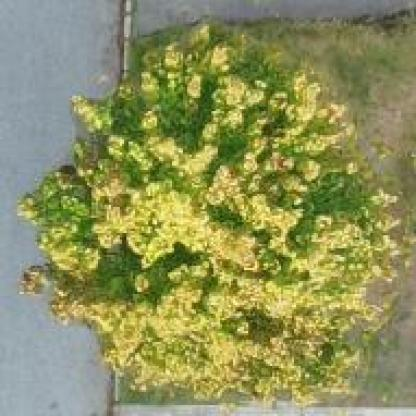Deciduous Tree: (16, 32, 415, 408)
